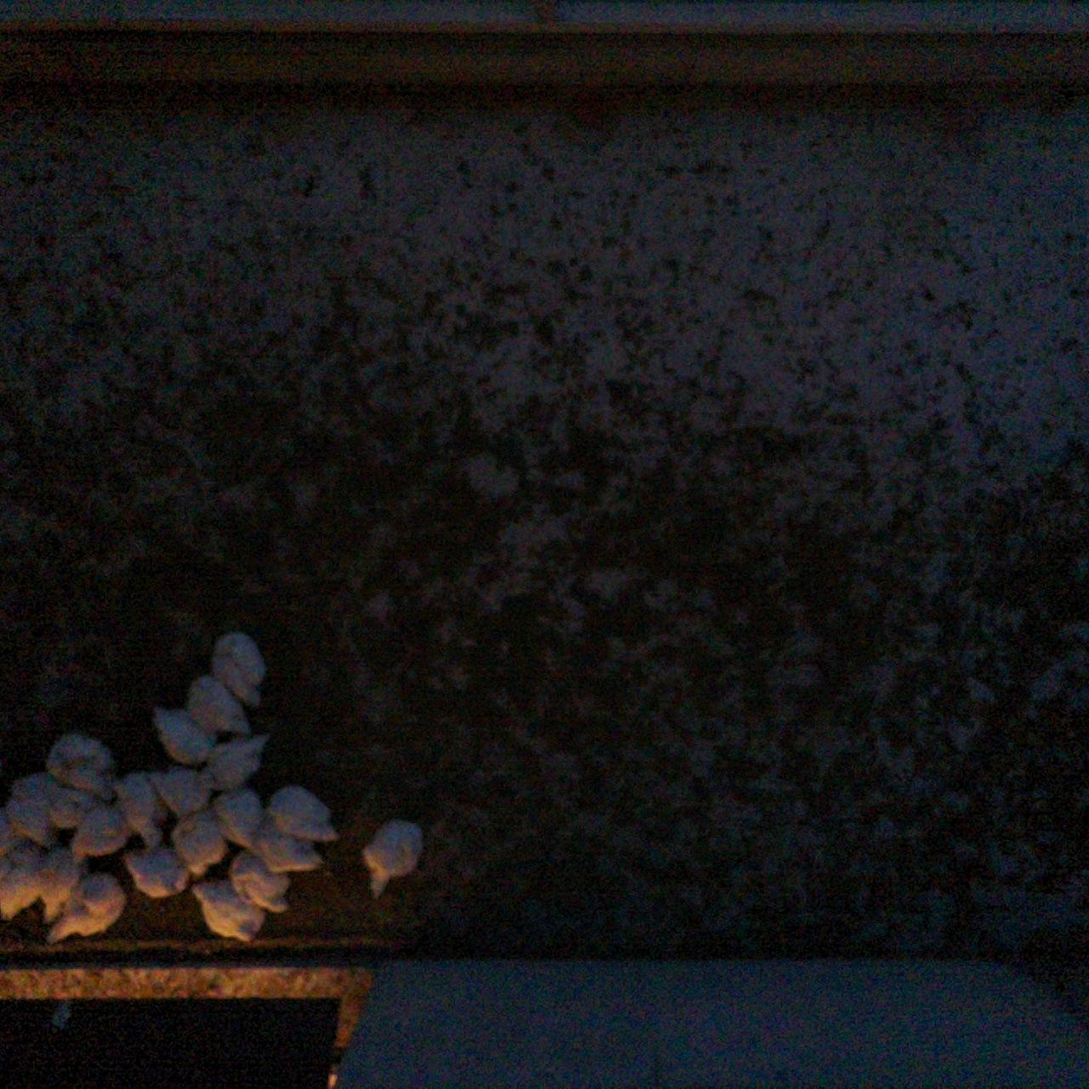chicken: (44, 871, 129, 948), (357, 812, 428, 903), (43, 724, 122, 800), (210, 624, 274, 710), (183, 670, 259, 741), (108, 765, 175, 842), (267, 782, 345, 847), (147, 703, 224, 767), (194, 881, 270, 944), (200, 730, 273, 794), (169, 805, 228, 878), (66, 803, 133, 865), (254, 822, 329, 877), (231, 850, 294, 915), (38, 846, 90, 921), (121, 842, 192, 896), (153, 767, 216, 819), (10, 778, 55, 845), (215, 791, 267, 846), (0, 866, 43, 922), (42, 782, 95, 827), (0, 827, 39, 871)
